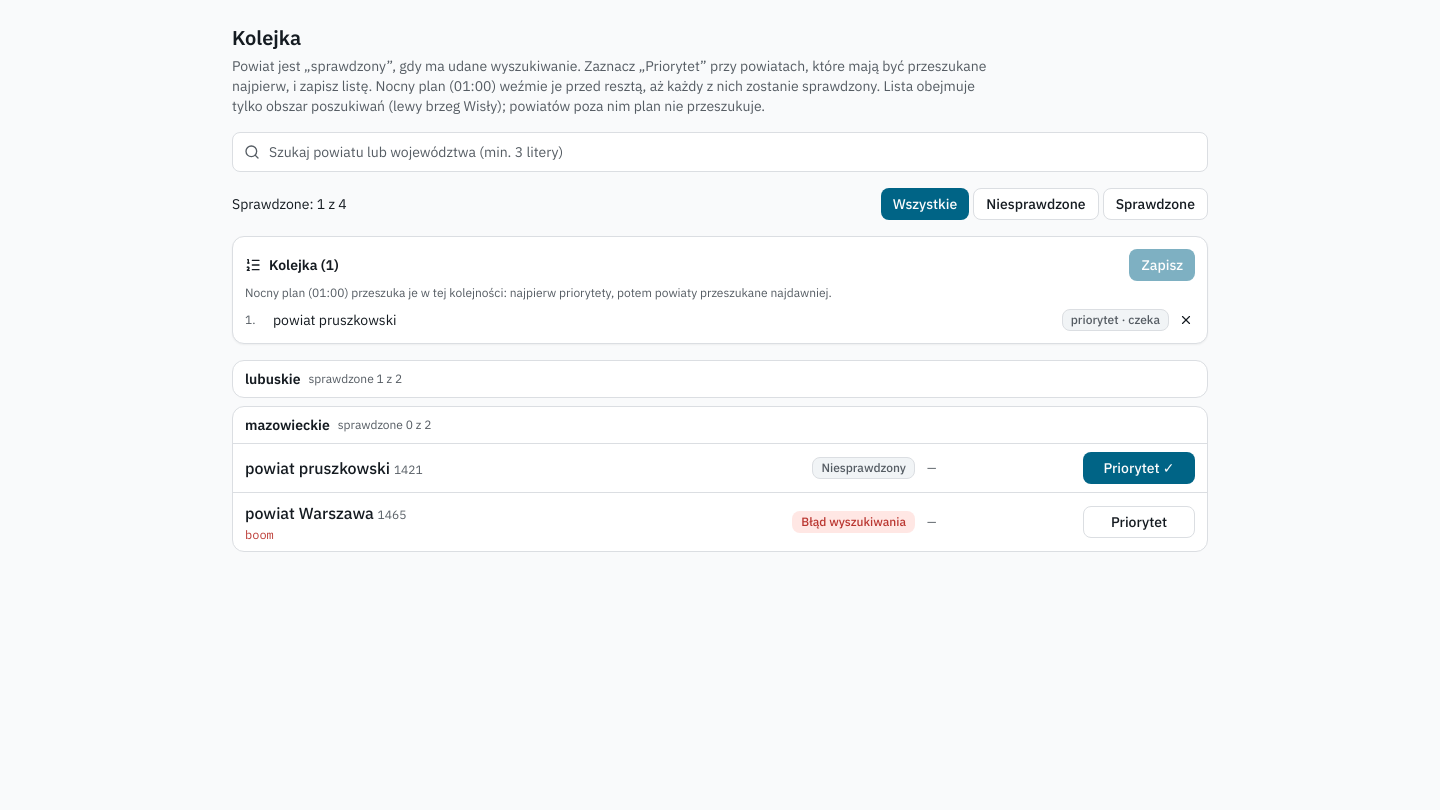
PowiatyPage › keeps the staged choice and says so when saving fails
This screenshot has width=1440, height=810.
Check: the text "Sprawdzone: 1 z 4" is shown, box [232,194,347,214]
Click the text "lubuskie" at {"x": 273, "y": 379}, box [245,369,300,389]
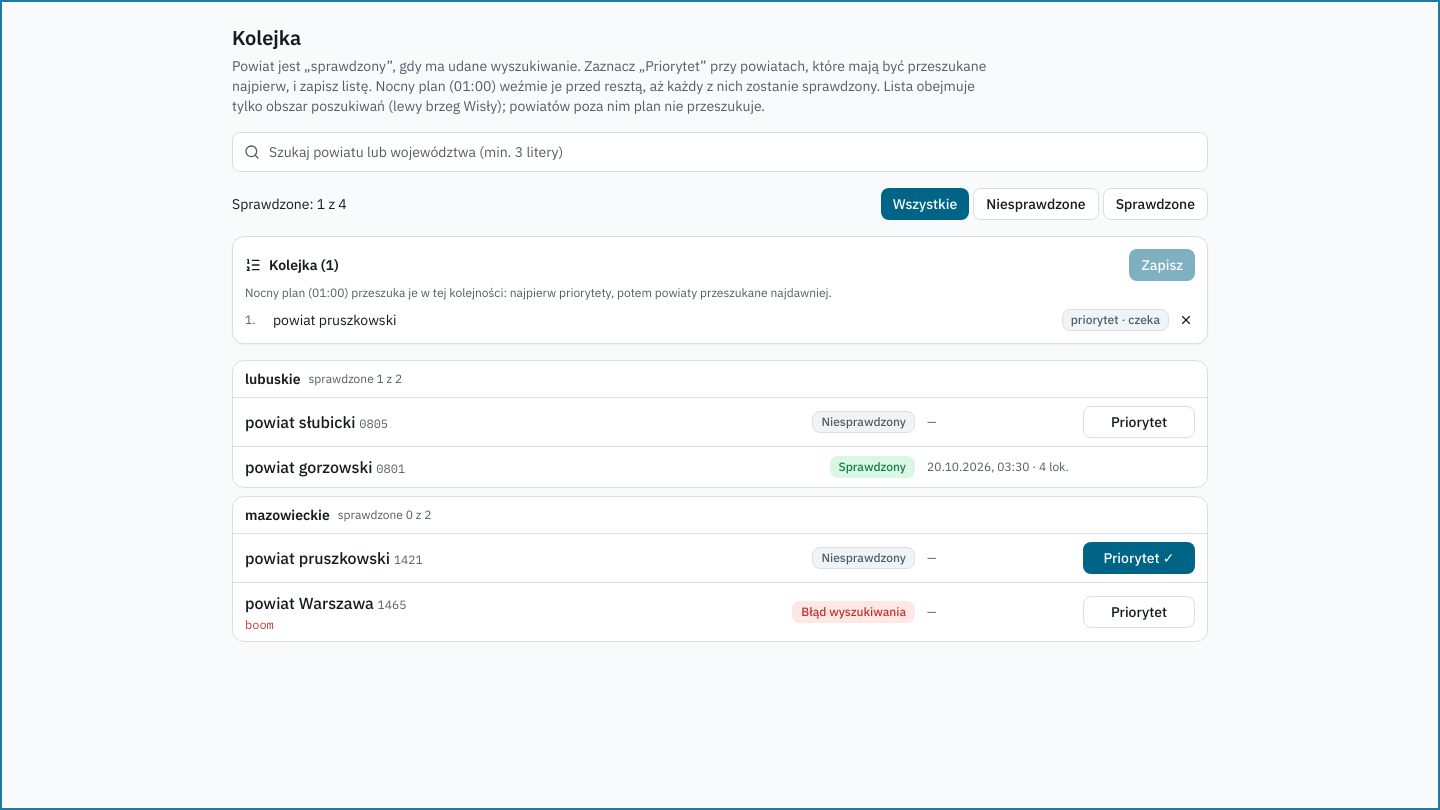
Click the button with aria-label "Priorytet: powiat słubicki" at {"x": 1139, "y": 422}, box [1083,406,1195,438]
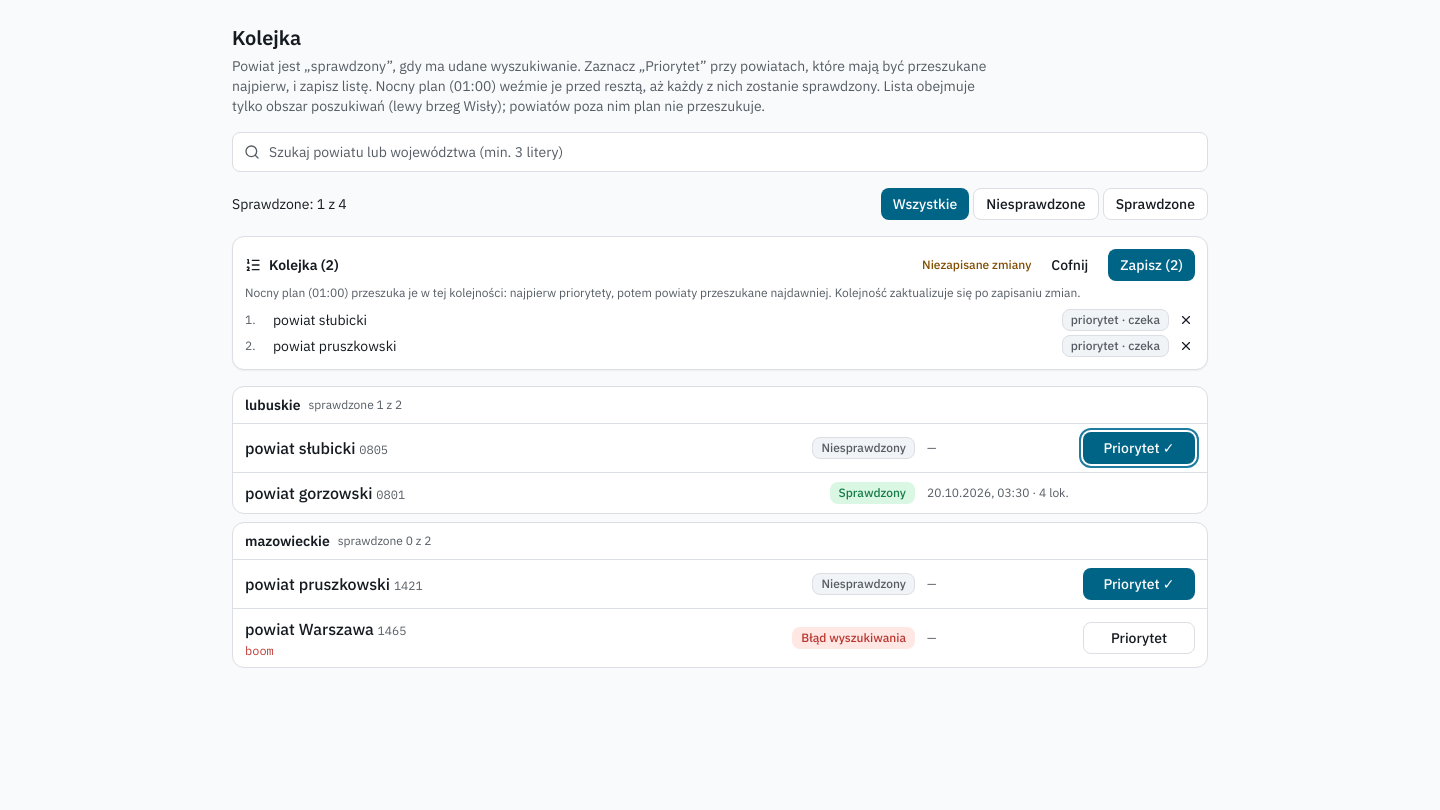
Click the button "Zapisz (2)" at {"x": 1152, "y": 265}, box [1108,249,1195,281]
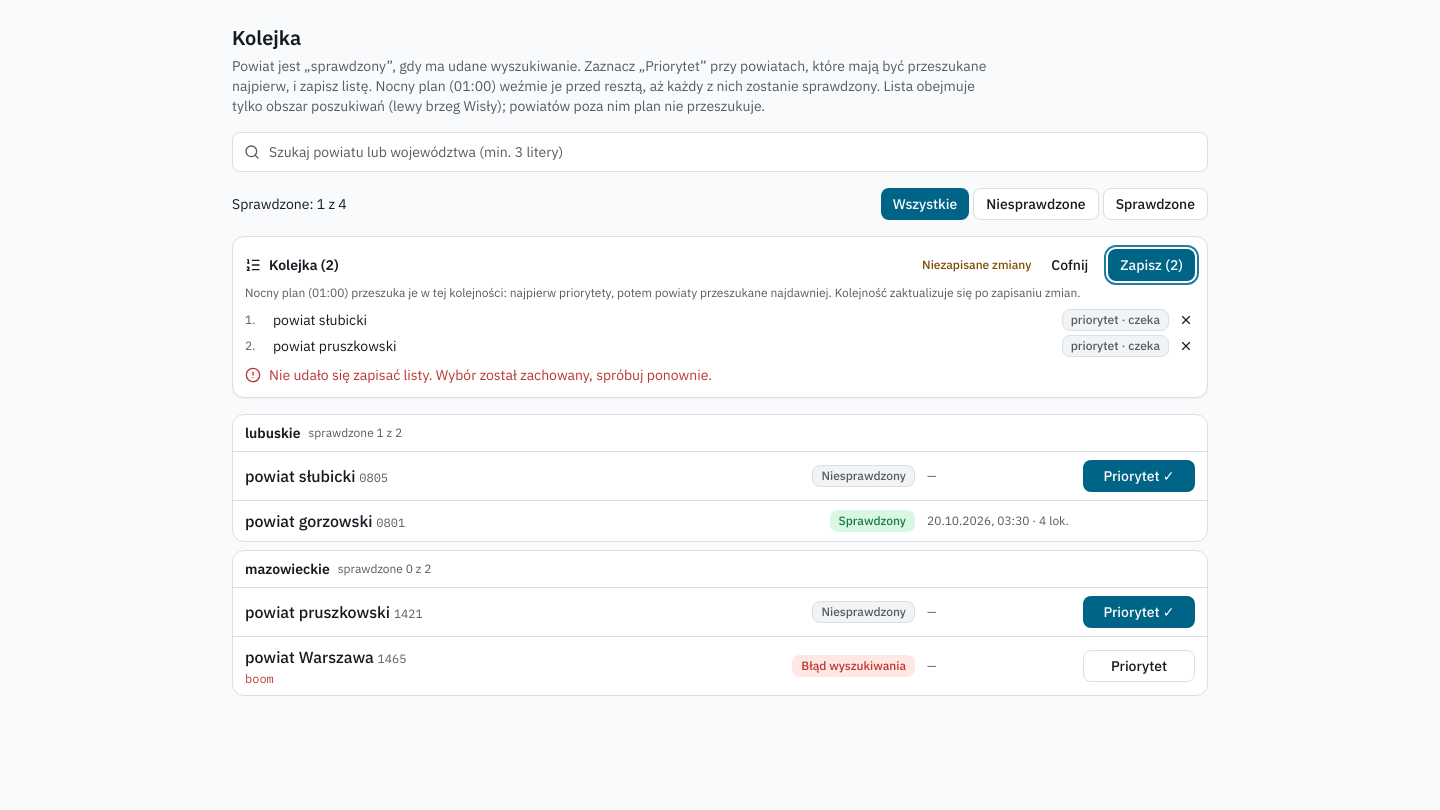
Check: the button "Zapisz (2)" is enabled, box [1108,249,1195,281]
Check: the message shows "Nie udało się zapisać", box [269,366,712,384]
